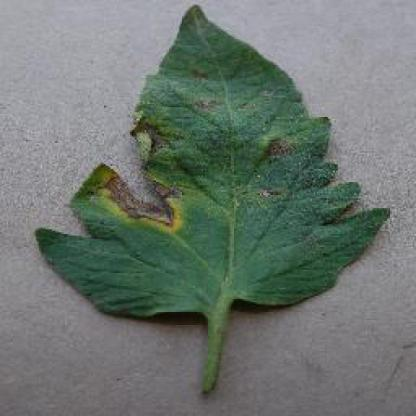Tomato_Blight: (38, 7, 396, 388)
